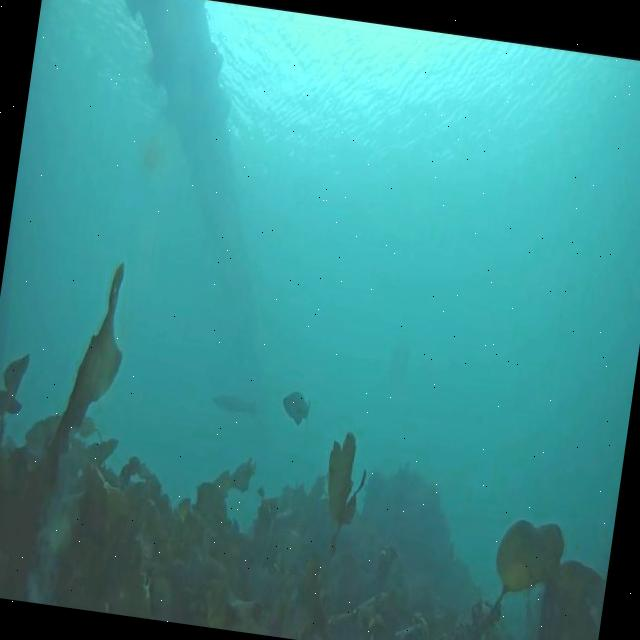fish: (210, 394, 260, 422), (278, 387, 314, 425)
